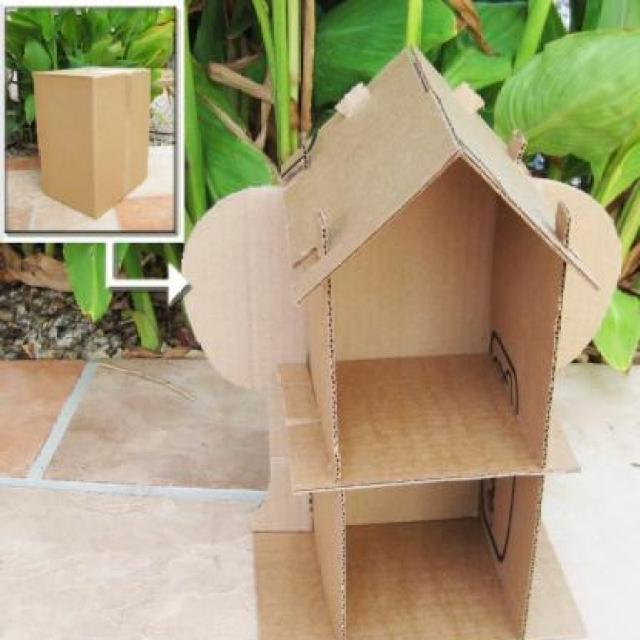box: (183, 39, 632, 640), (34, 62, 154, 222)
